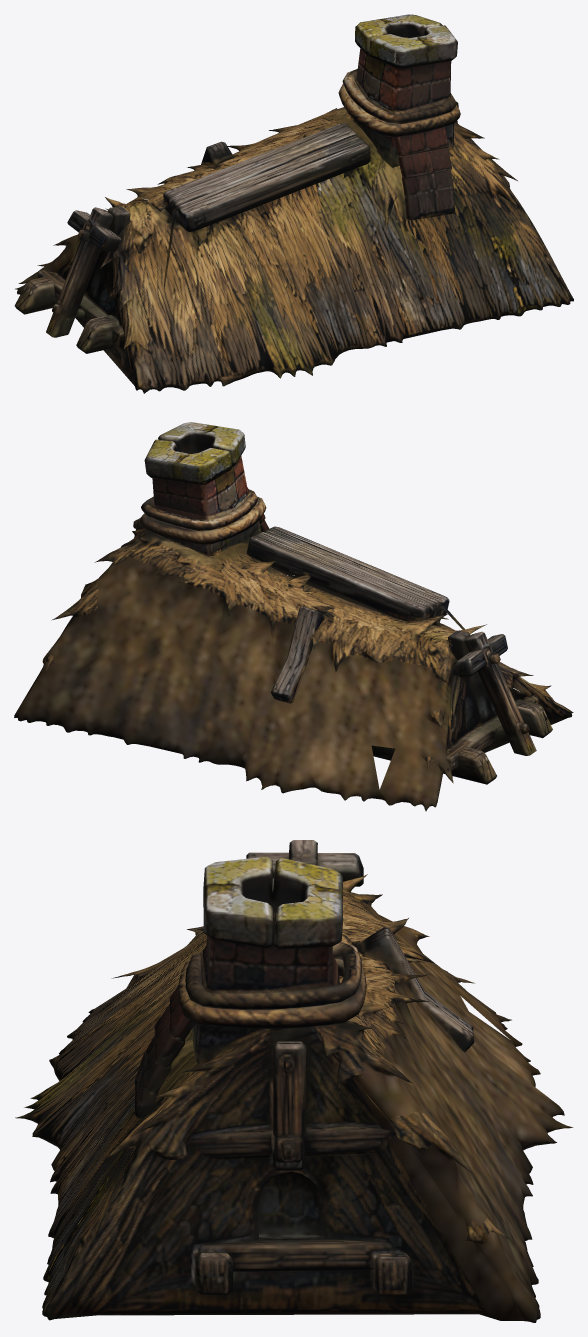
The model's file is act1_kit_v1_roof_platform.glb.
3 renders of one model, top to bottom at view 1: azimuth 30°, elevation 25°; view 2: azimuth 150°, elevation 25°; view 3: azimuth 270°, elevation 25°, orthographic. The views are drawn at different scales.
Visible parts, largest first — view 1: act1_kit_v1_roof_platform; view 2: act1_kit_v1_roof_platform; view 3: act1_kit_v1_roof_platform.
Boxes of the visible parts, x1,y1,x2,y2 form: act1_kit_v1_roof_platform: [14, 14, 573, 393]; act1_kit_v1_roof_platform: [14, 422, 573, 811]; act1_kit_v1_roof_platform: [15, 840, 573, 1322].
Size of the model in its own units: 1 by 0.5198 by 0.7151.
1 material, 1 textured.
